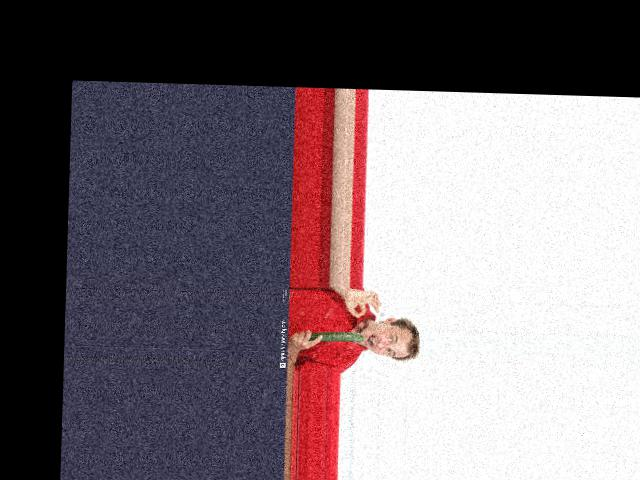cucumber: (309, 331, 364, 341)
